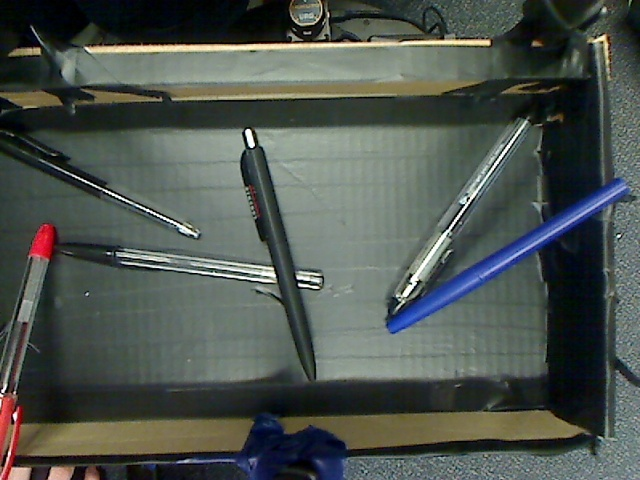pen: (386, 158, 639, 351), (377, 91, 558, 327), (218, 115, 320, 391), (1, 115, 201, 255), (1, 214, 79, 472), (43, 233, 328, 298)
